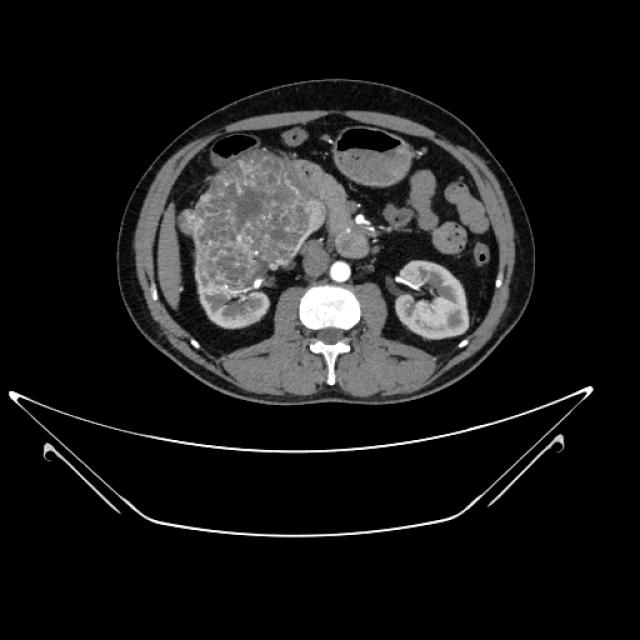Tumor: (200, 155, 319, 331)
